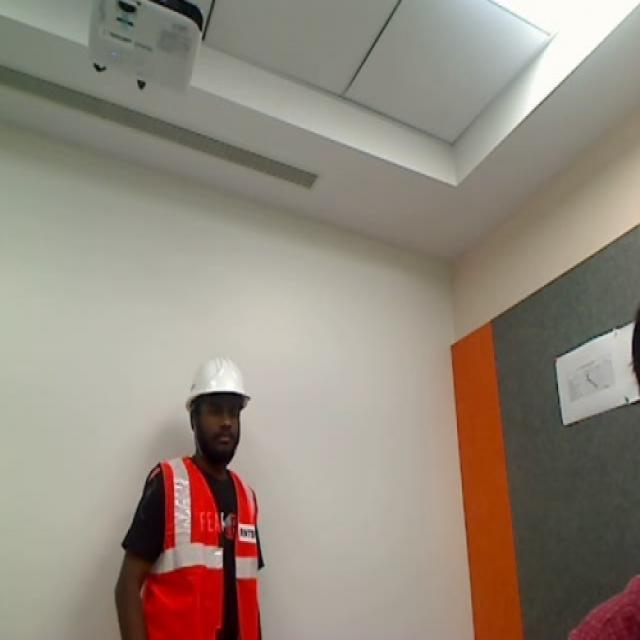safety_helmet: (133, 450, 265, 640)
